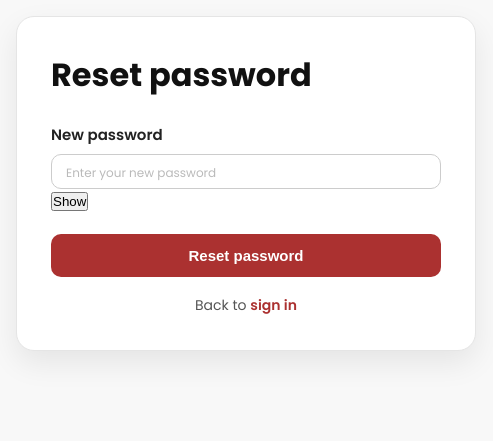
Test: ResetPasswordPage › submits new password successfully when valid token is present
In the password field with placeholder "Enter your new password": (246, 172) [51,154,441,189], type "brandNewPass123"
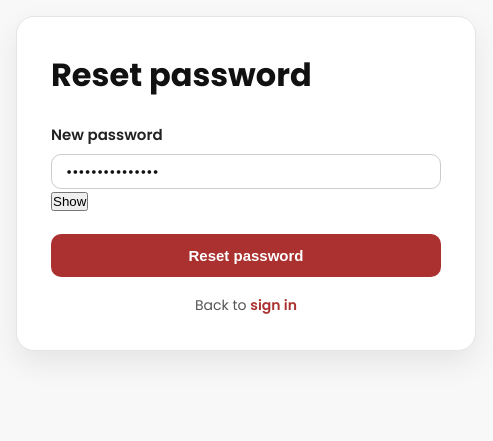
Click the button "Reset password": (246, 256) [51,234,441,277]
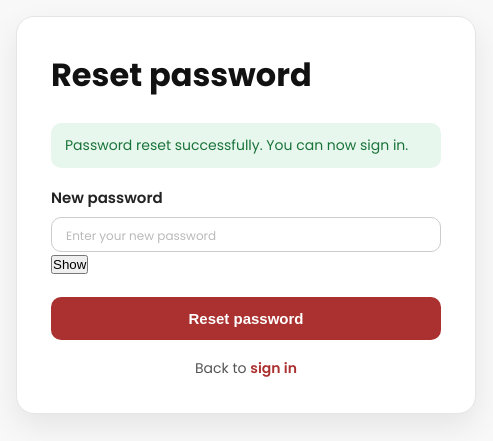
Expected: the text "Password reset successfully. You can now sign in." is shown, [51,123,441,168]
Expected: the password field with placeholder "Enter your new password" is empty, [51,217,441,252]
